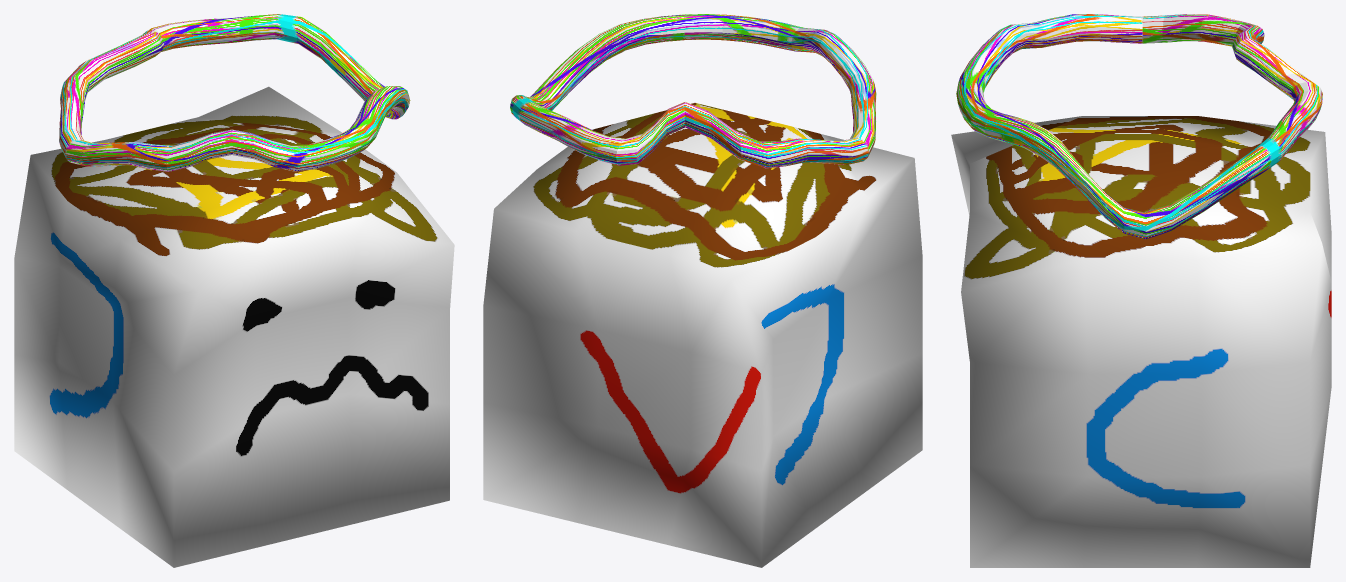
Rendered from WeirdBox.gltf.
3 renders of one model, left to right at view 1: azimuth 30°, elevation 25°; view 2: azimuth 150°, elevation 25°; view 3: azimuth 270°, elevation 25°, orthographic. The views are drawn at different scales.
Parts seen in each view (by area): view 1: Cube, Torus; view 2: Cube, Torus; view 3: Cube, Torus.
Boxes of the visible parts, x1,y1,x2,y2 form: Cube: (14, 86, 454, 567); Torus: (59, 14, 410, 171); Cube: (483, 103, 922, 567); Torus: (510, 14, 876, 168); Cube: (951, 116, 1331, 567); Torus: (956, 14, 1322, 239).
Bounding box in the file's own units: 2.43 × 2.86 × 2.24.
